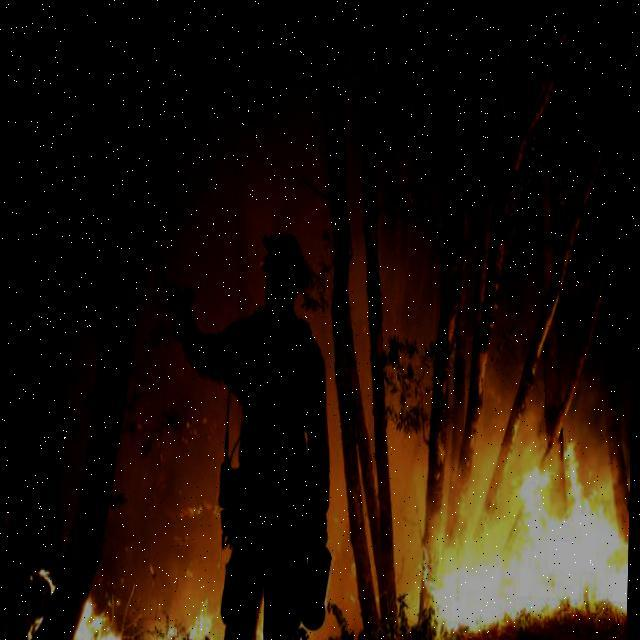Fire: (52, 423, 632, 639)
